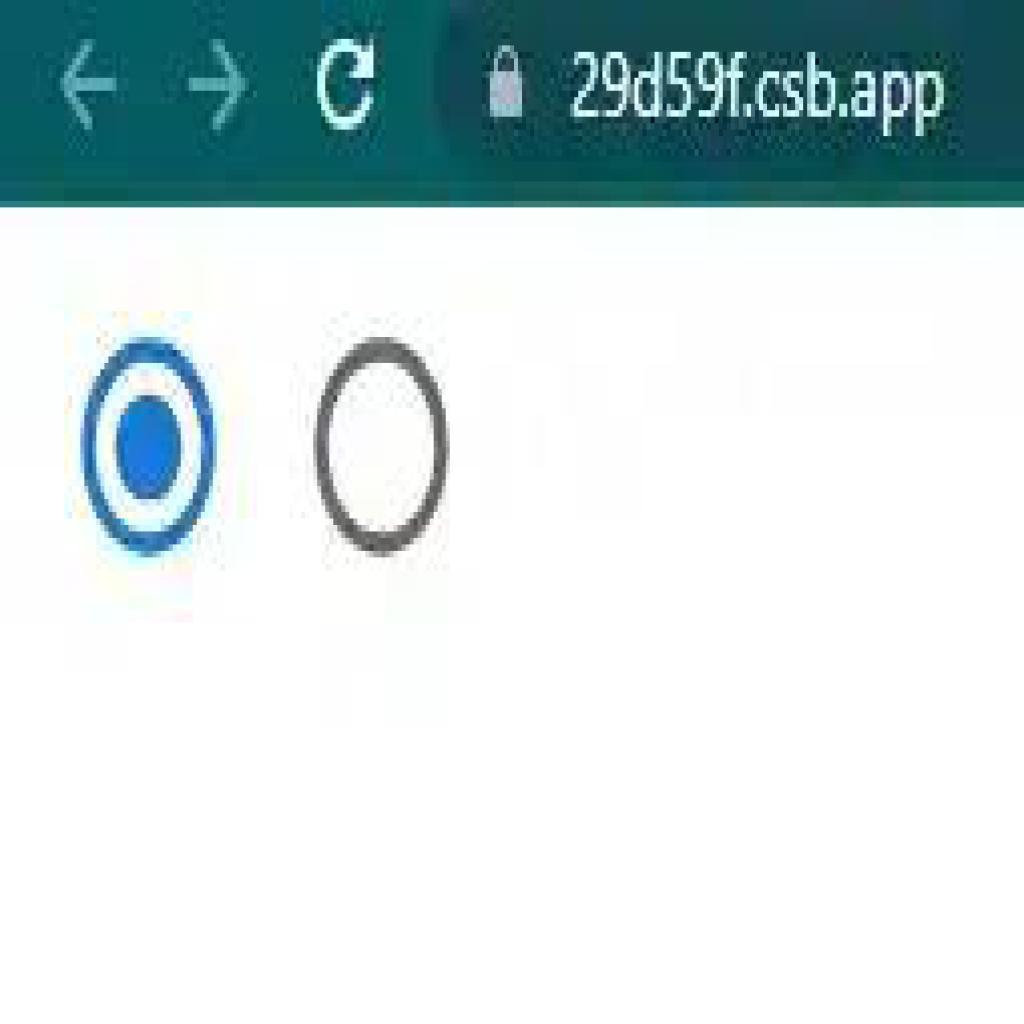icon: (187, 31, 255, 136), (312, 35, 381, 136), (58, 34, 126, 132), (482, 41, 536, 129)
radio: (76, 334, 221, 561), (315, 339, 453, 562)
